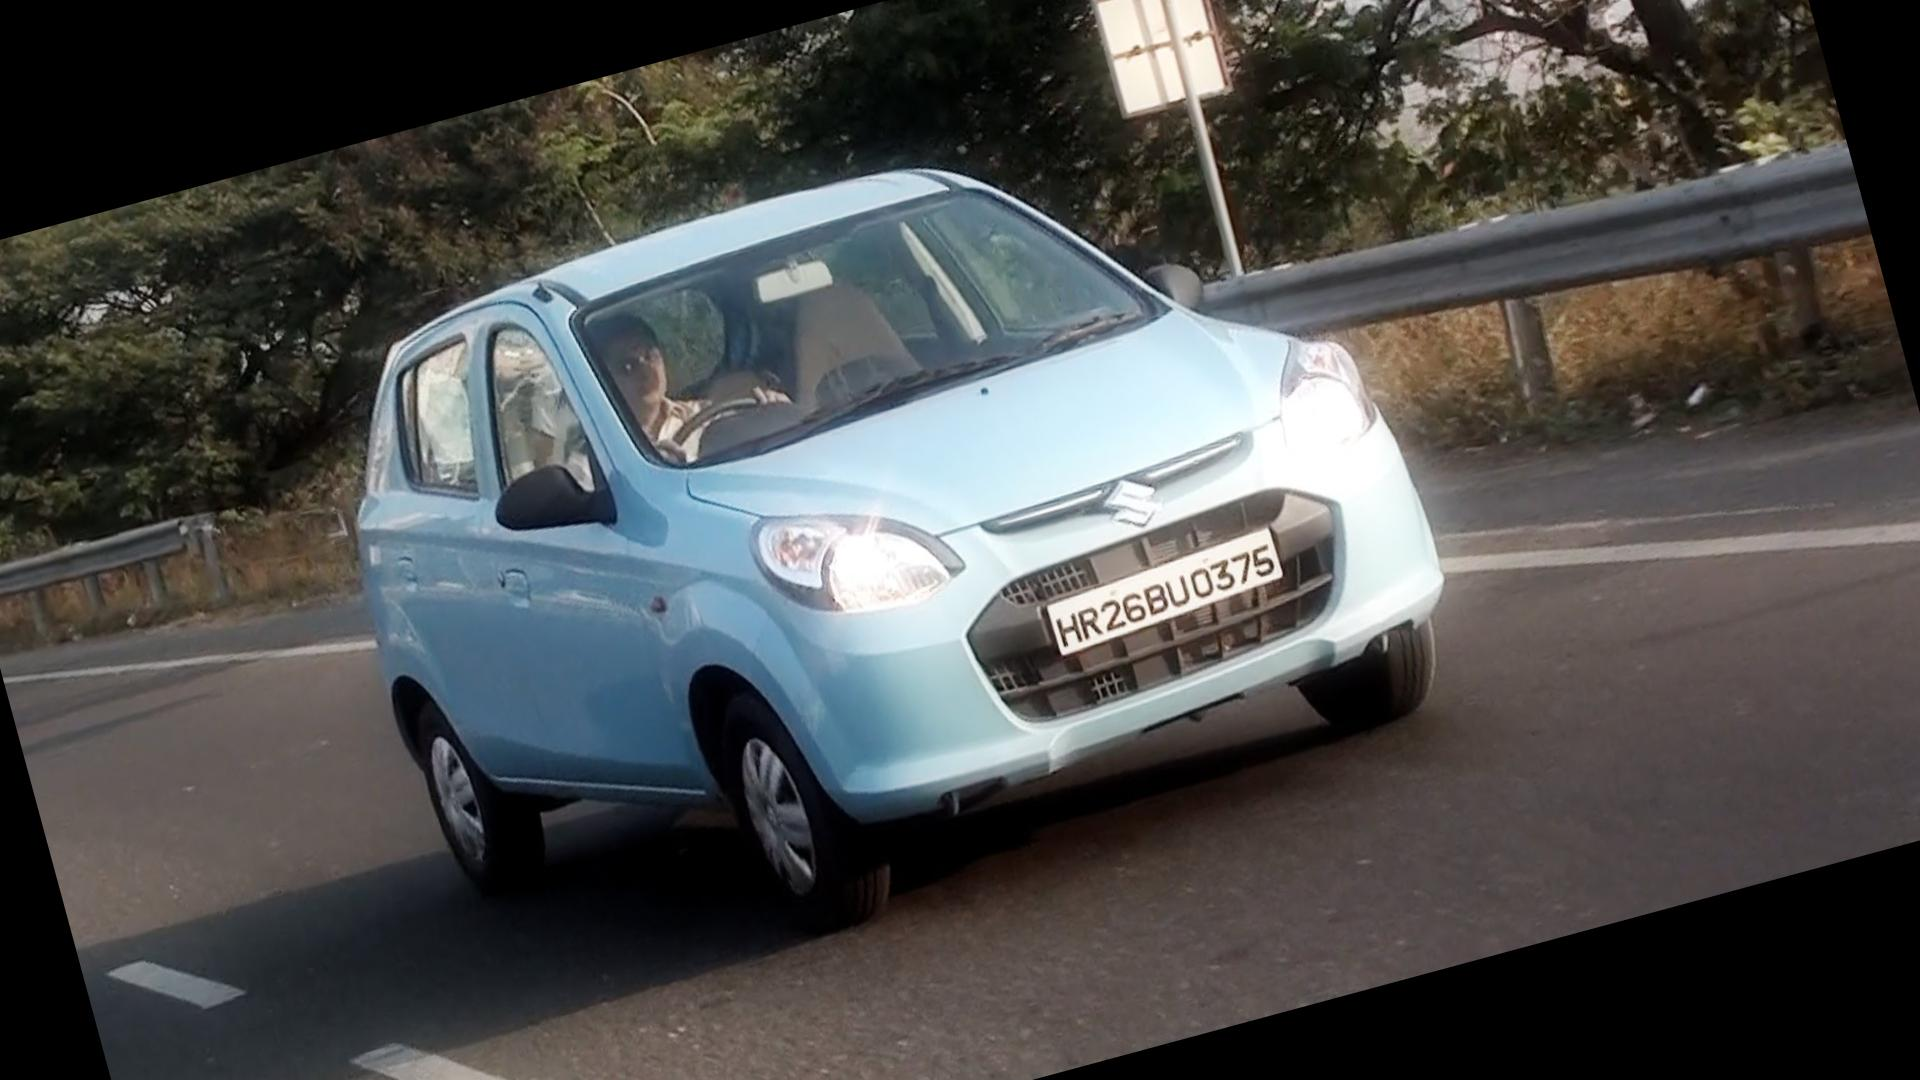plate: (1034, 531, 1296, 657)
